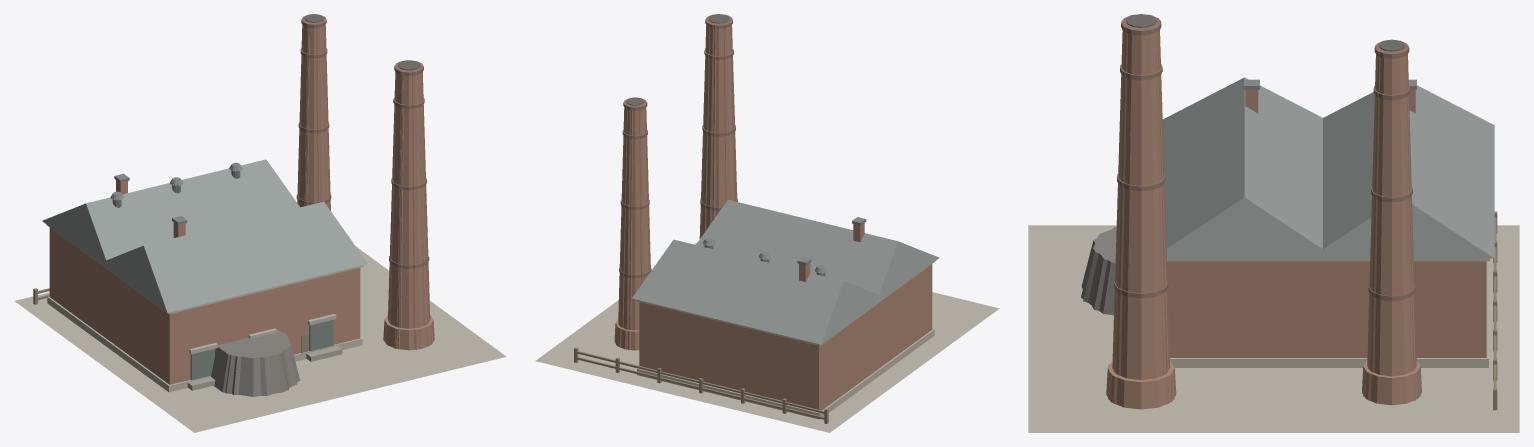
3 views of the same model, side by side, from view 1: azimuth 30°, elevation 25°; view 2: azimuth 150°, elevation 25°; view 3: azimuth 270°, elevation 25° (orthographic). The views are drawn at different scales.
Visible parts, largest first — view 1: Near, Mid, Far; view 2: Near, Mid, Far; view 3: Near, Mid, Far.
Part boxes in pixels (bbox=[...]): Near: bbox=[14, 14, 506, 432]; Mid: bbox=[110, 14, 432, 395]; Far: bbox=[221, 16, 428, 395]; Near: bbox=[535, 14, 999, 432]; Mid: bbox=[616, 14, 827, 349]; Far: bbox=[619, 14, 735, 347]; Near: bbox=[1028, 14, 1519, 432]; Mid: bbox=[1081, 14, 1419, 404]; Far: bbox=[1083, 15, 1420, 399].
Size of the model in its own units: 4 by 3.37 by 4.
